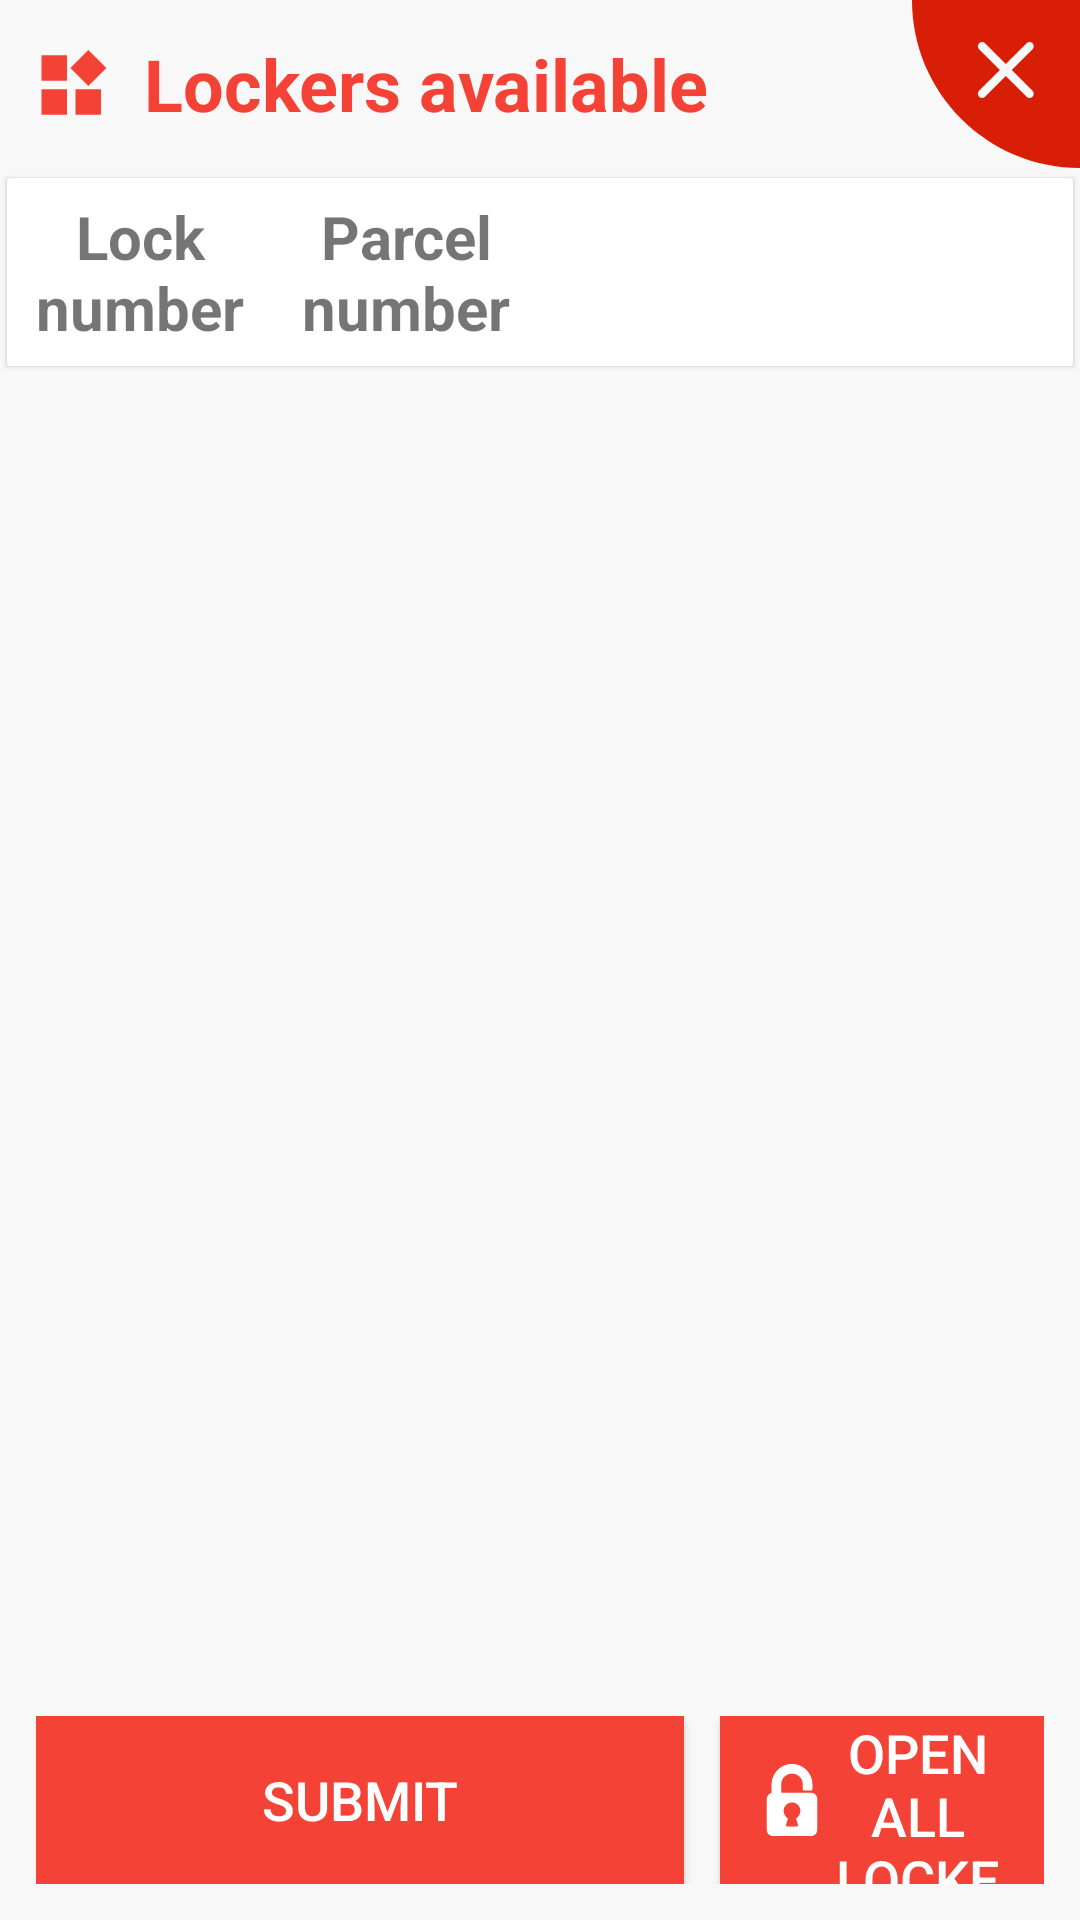

Where icons sit on this 1080 x 1920 app screen, as (left=x1, top=y1, right=x2, bottom=y2):
close: (left=912, top=0, right=1080, bottom=168)
